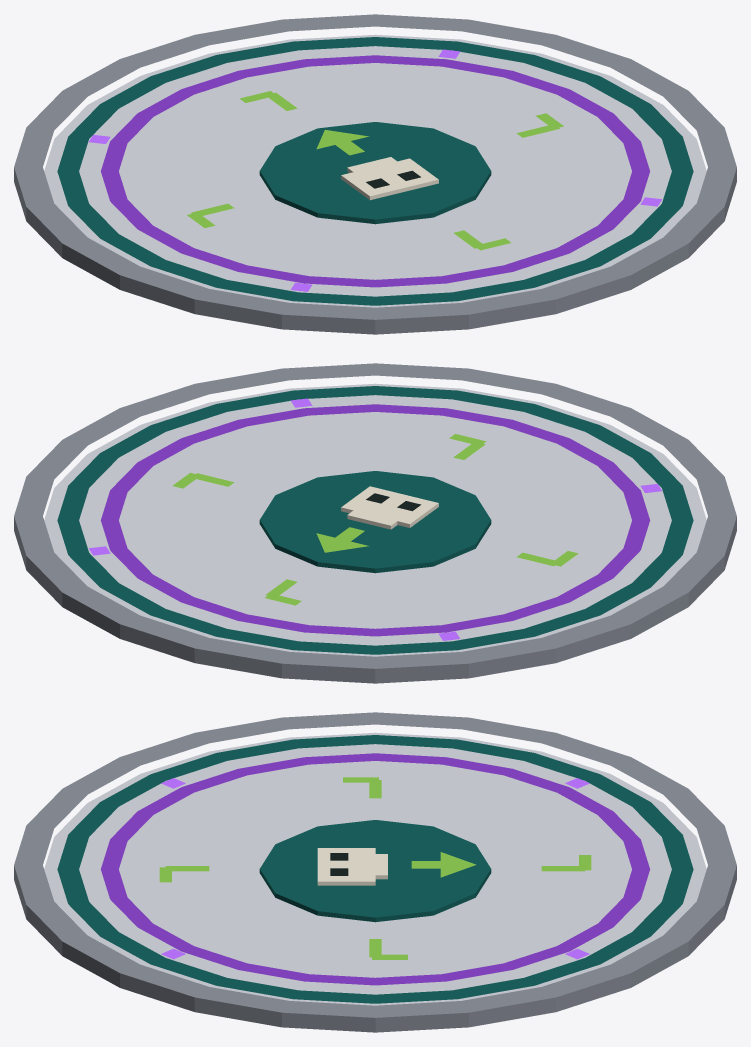
File: weakener_rare_area.glb
3 renders of one model, top to bottom at view 1: azimuth 30°, elevation 25°; view 2: azimuth 150°, elevation 25°; view 3: azimuth 270°, elevation 25°, orthographic.
Parts seen in each view (by area): view 1: weakener_rare_area; view 2: weakener_rare_area; view 3: weakener_rare_area.
Part boxes in pixels (box(x1,y1,x2,y2)): weakener_rare_area: box(14, 14, 736, 334); weakener_rare_area: box(14, 363, 736, 683); weakener_rare_area: box(14, 712, 736, 1032).
Size of the model in its own units: 2 by 0.047 by 2.
2 materials, 2 textured.
